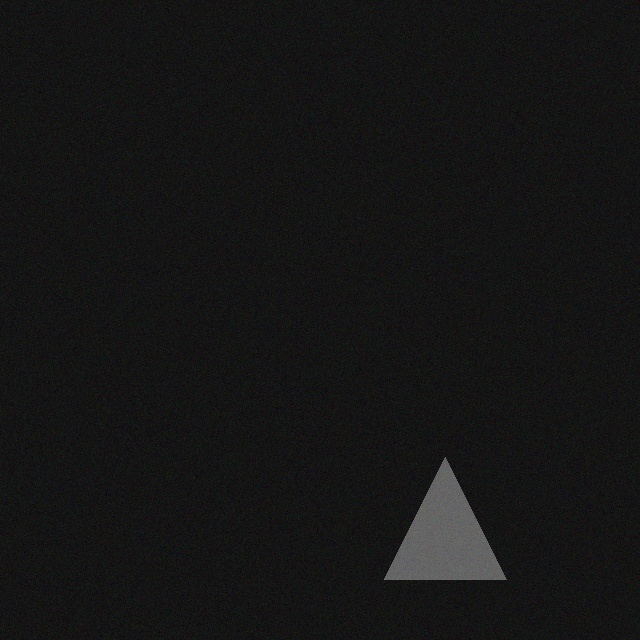triangle: (381, 469, 503, 591)
